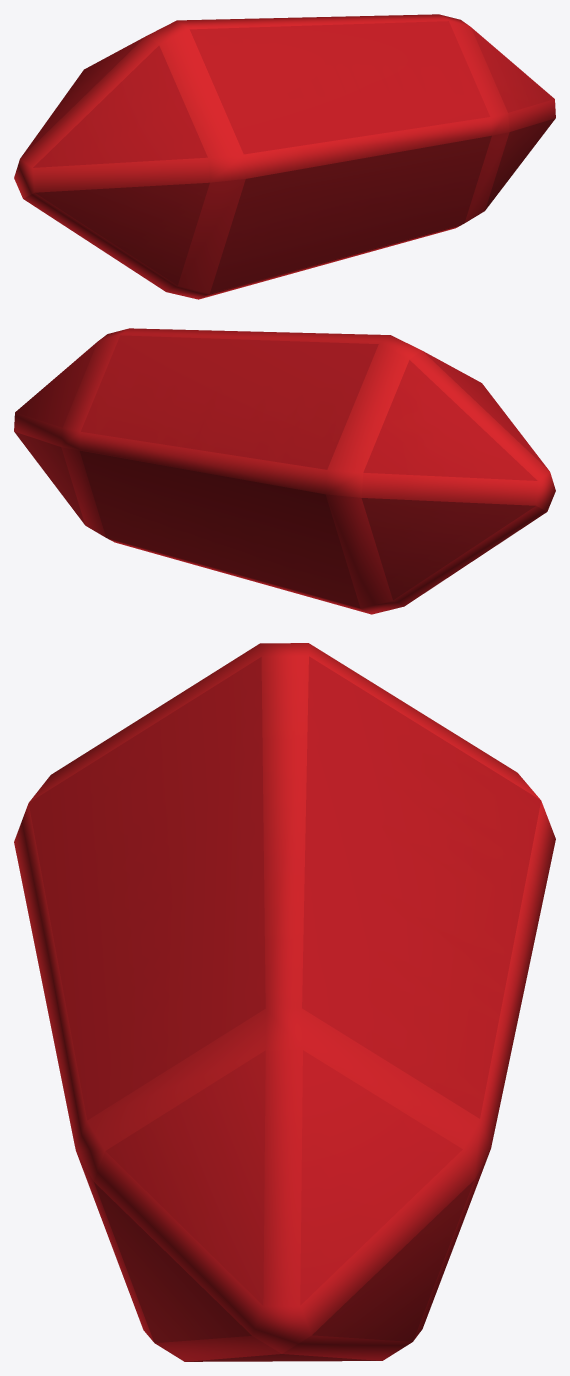
File: christal_ruby_6.fbx
The picture shows the model from 3 angles, top to bottom: view 1: azimuth 30°, elevation 25°; view 2: azimuth 150°, elevation 25°; view 3: azimuth 270°, elevation 25°; orthographic projection. The views are drawn at different scales.
Visible parts, largest first — view 1: christal_ruby_6; view 2: christal_ruby_6; view 3: christal_ruby_6.
Part boxes in pixels (x1,y1,x2,y2): christal_ruby_6: (14,14,555,299); christal_ruby_6: (14,328,555,614); christal_ruby_6: (14,643,555,1361).
Bounding box in the file's own units: 67.5 × 29.59 × 31.25.
1 material, 1 textured.
